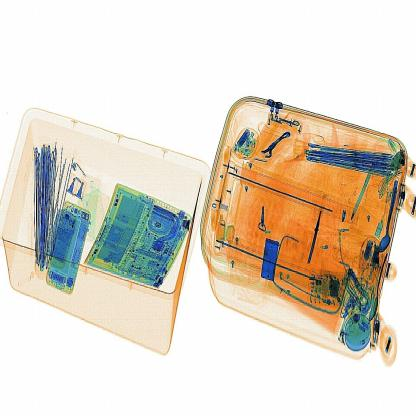gun: (299, 199, 329, 260)
